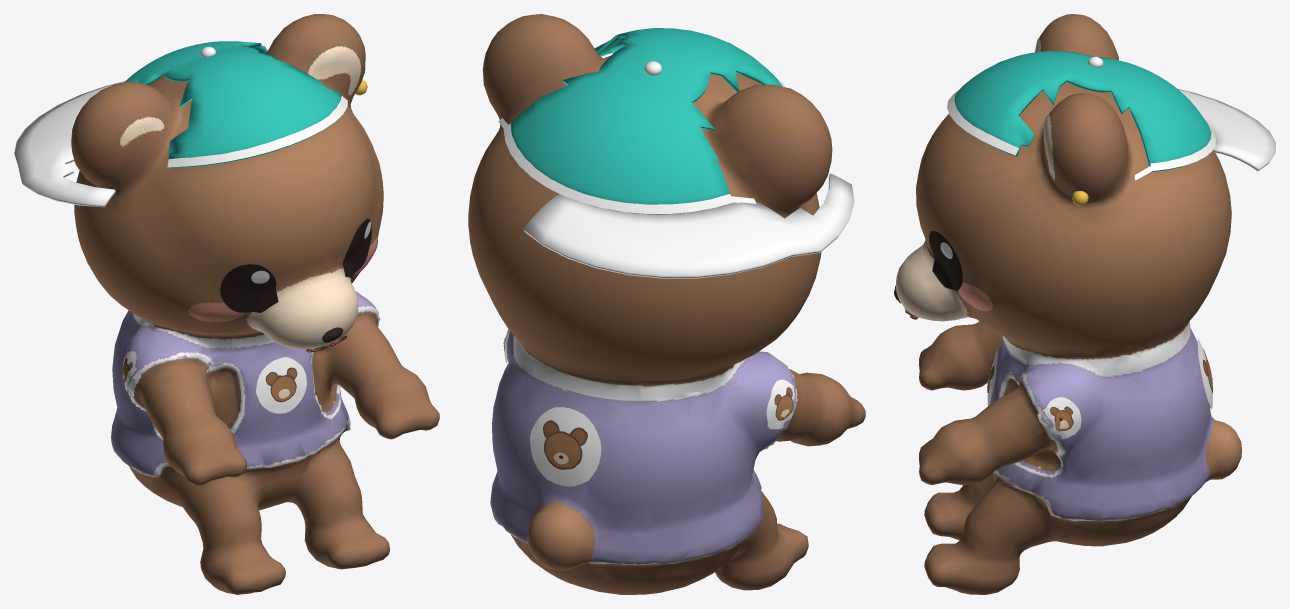
File: bear.glb
The picture shows the model from 3 angles, left to right: view 1: azimuth 30°, elevation 25°; view 2: azimuth 150°, elevation 25°; view 3: azimuth 270°, elevation 25°; orthographic projection. The views are drawn at different scales.
Parts seen in each view (by area): view 1: chibi, face; view 2: chibi, face; view 3: chibi, face.
Part boxes in pixels (<box>): chibi: <box>71,14,439,594</box>; face: <box>14,41,379,413</box>; chibi: <box>468,14,865,594</box>; face: <box>498,28,854,486</box>; chibi: <box>896,14,1241,594</box>; face: <box>894,51,1275,439</box>.
Bounding box in the file's own units: 0.7929 × 1.2 × 0.8171.
32 materials, 1 textured.
